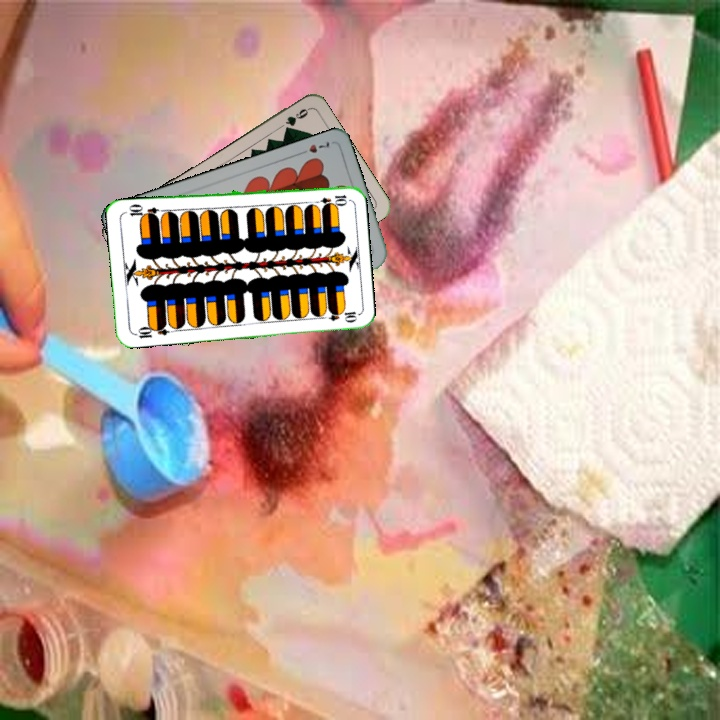E10: (130, 320, 171, 341), (309, 191, 350, 207)
G9: (275, 104, 312, 131)
H7: (294, 137, 332, 158)
